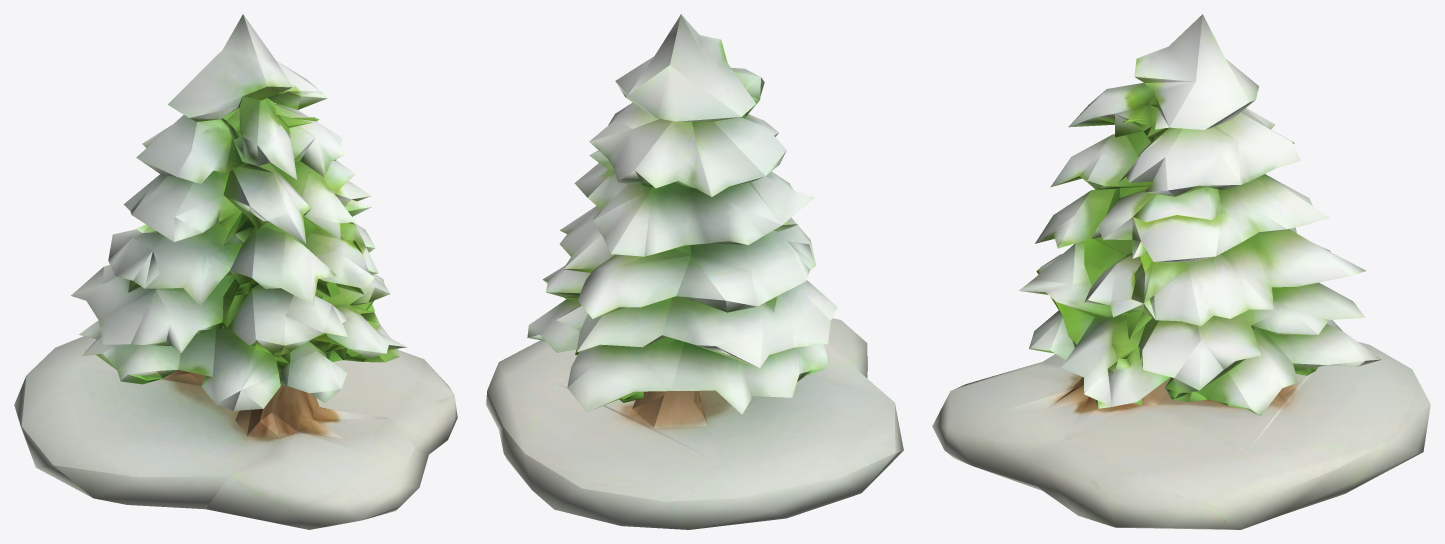
Rendered from m2SnowPine.glb.
3 renders of one model, left to right at view 1: azimuth 30°, elevation 25°; view 2: azimuth 150°, elevation 25°; view 3: azimuth 270°, elevation 25°, orthographic. The views are drawn at different scales.
Visible parts, largest first — view 1: model; view 2: model; view 3: model.
Part boxes in pixels (x1,y1,x2,y2): model: (14, 14, 457, 529); model: (486, 14, 903, 529); model: (932, 14, 1430, 529).
Size of the model in its own units: 1.76 by 1.8 by 1.9.
Materials: 1 (1 with a texture image).
